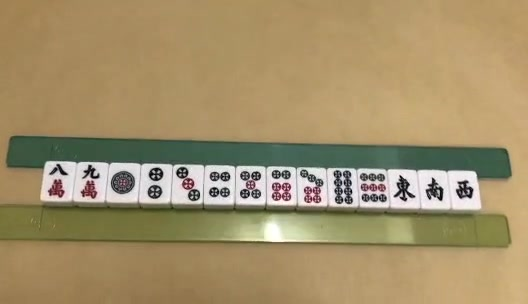1p: (112, 171, 135, 195)
1z: (394, 174, 415, 202)
2p: (148, 167, 164, 199)
2z: (425, 176, 444, 201)
3p: (177, 167, 199, 201)
3z: (456, 179, 473, 200)
4p: (210, 172, 230, 198)
5p: (240, 172, 261, 198)
6p: (271, 169, 292, 202)
7p: (300, 170, 322, 205)
8m: (46, 163, 70, 198)
8p: (334, 169, 352, 204)
9m: (78, 164, 100, 200)
9p: (361, 172, 385, 201)
